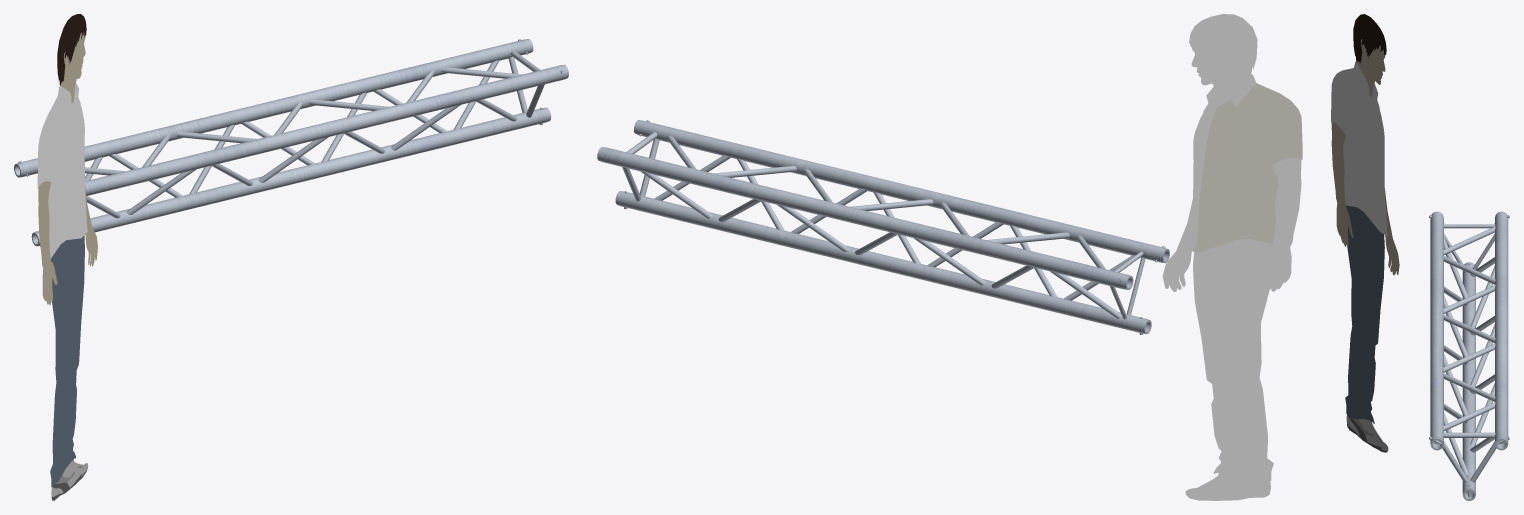
File: TRUSS_FD33_3M-76d82d23.glb
The picture shows the model from 3 angles, left to right: view 1: azimuth 30°, elevation 25°; view 2: azimuth 150°, elevation 25°; view 3: azimuth 270°, elevation 25°; orthographic projection. The views are drawn at different scales.
Parts seen in each view (by area): view 1: Truss FD33-3m, Sang; view 2: Sang, Truss FD33-3m; view 3: Sang, Truss FD33-3m.
Boxes of the visible parts, bbox=[...] form: Truss FD33-3m: bbox=[14, 39, 568, 246]; Sang: bbox=[37, 14, 97, 500]; Sang: bbox=[1162, 14, 1302, 500]; Truss FD33-3m: bbox=[597, 120, 1169, 334]; Sang: bbox=[1331, 14, 1399, 452]; Truss FD33-3m: bbox=[1429, 211, 1509, 500].
Size of the model in its own units: 2.29 by 1.76 by 0.6654.
13 materials, 2 textured.
